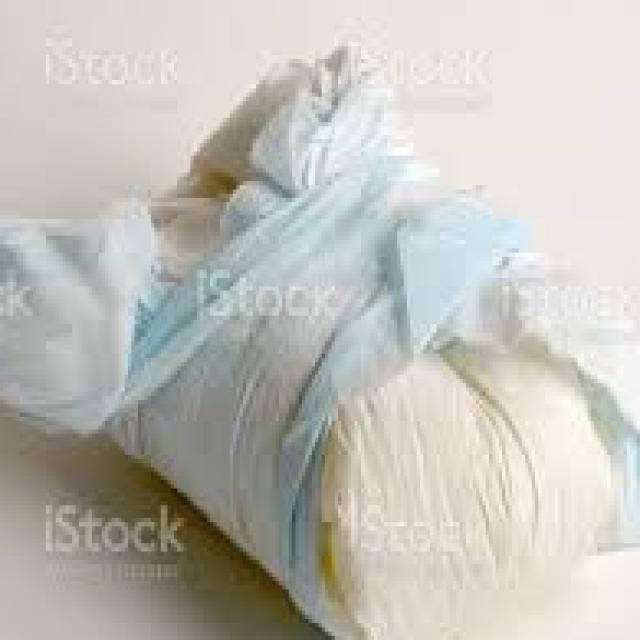organic: (0, 47, 609, 614)
